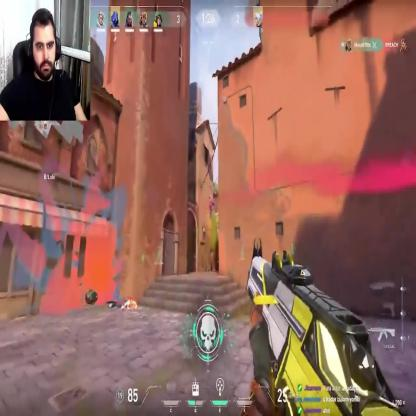enemy: (208, 190, 215, 218)
enemy_head: (210, 192, 213, 198)
